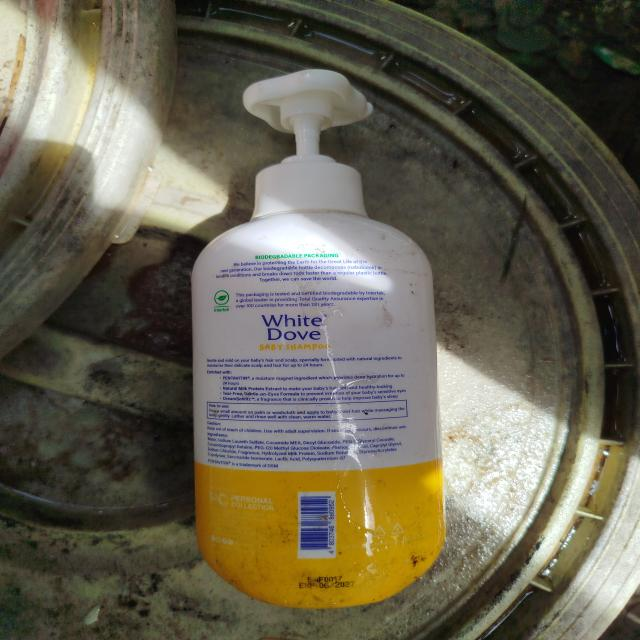plastic: (166, 48, 532, 617)
